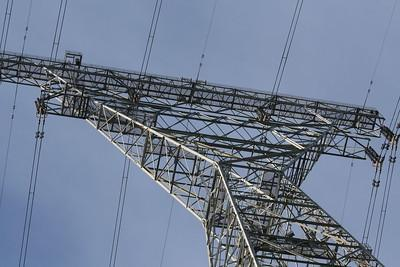power_tower: (0, 44, 400, 267)
